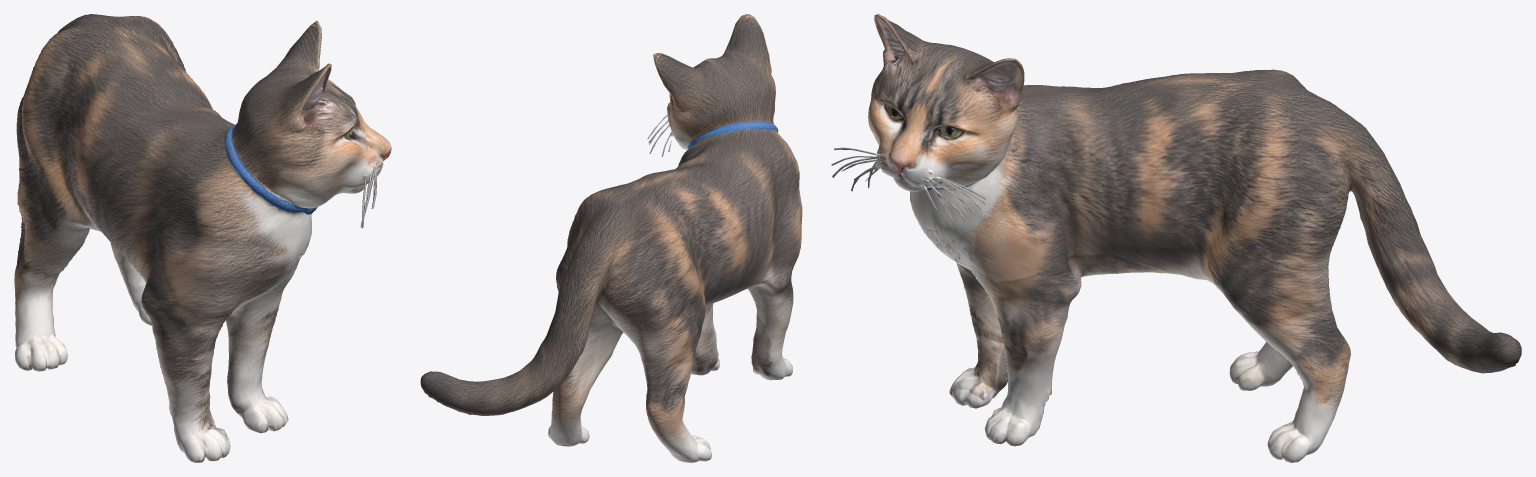
Rendered from mimi.glb.
3 views of the same model, side by side, from view 1: azimuth 30°, elevation 25°; view 2: azimuth 150°, elevation 25°; view 3: azimuth 270°, elevation 25° (orthographic). The views are drawn at different scales.
Visible parts, largest first — view 1: tripo_node_4c9c61e2-17f7-4449-8d82-2aa8955c5adb; view 2: tripo_node_4c9c61e2-17f7-4449-8d82-2aa8955c5adb; view 3: tripo_node_4c9c61e2-17f7-4449-8d82-2aa8955c5adb.
Part boxes in pixels (box(x1,y1,x2,y2)): tripo_node_4c9c61e2-17f7-4449-8d82-2aa8955c5adb: box(14, 14, 391, 462); tripo_node_4c9c61e2-17f7-4449-8d82-2aa8955c5adb: box(420, 14, 802, 462); tripo_node_4c9c61e2-17f7-4449-8d82-2aa8955c5adb: box(831, 14, 1521, 462).
Size of the model in its own units: 0.222 by 0.3502 by 0.5155.
Materials: 1 (1 with a texture image).
